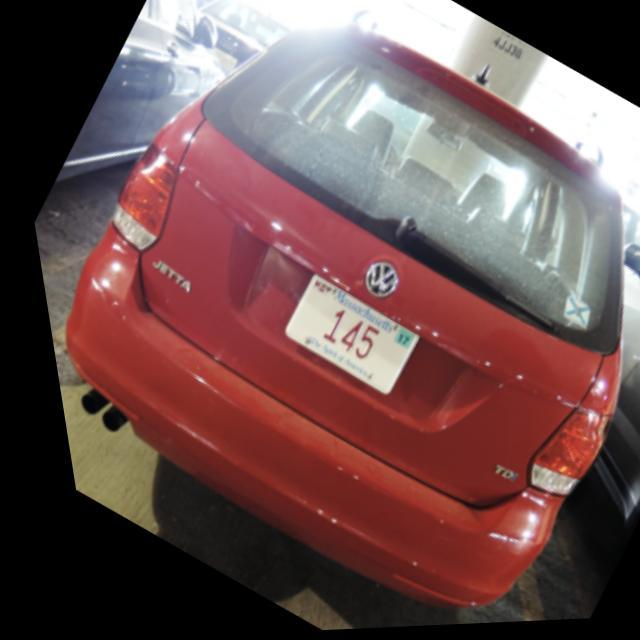license_plate: (264, 269, 416, 402)
